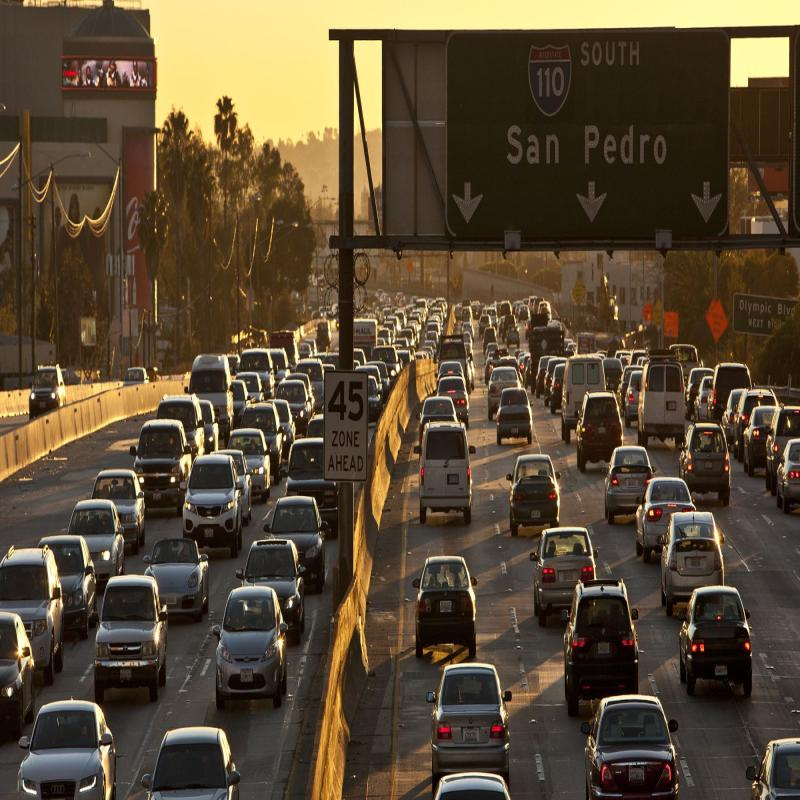car: (12, 678, 120, 800), (578, 685, 676, 800), (134, 712, 260, 800), (220, 570, 305, 688), (564, 591, 638, 719), (425, 661, 504, 779), (671, 578, 750, 688), (409, 540, 478, 662), (3, 516, 62, 658), (182, 444, 252, 562), (92, 570, 156, 695), (144, 538, 209, 643), (292, 424, 350, 534), (665, 512, 716, 623), (128, 437, 193, 524), (500, 450, 558, 543), (539, 518, 596, 612), (641, 474, 705, 556), (250, 523, 302, 623), (276, 485, 328, 577), (610, 437, 661, 530), (77, 490, 124, 587), (45, 524, 97, 606), (160, 379, 207, 458), (88, 476, 146, 539), (575, 387, 615, 463), (495, 394, 549, 449), (0, 578, 23, 700)
